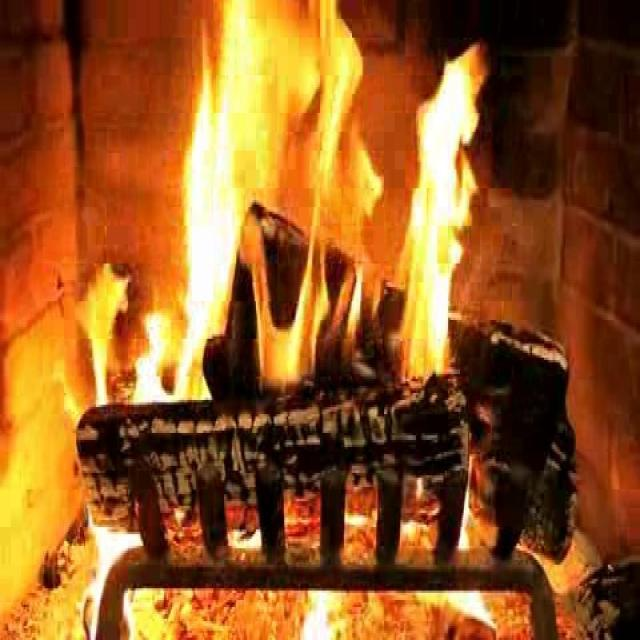Fire: (176, 11, 463, 408)
